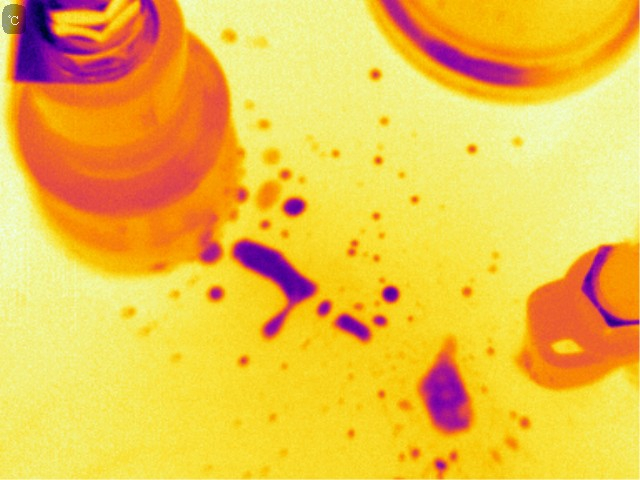Water: (227, 235, 323, 344), (422, 337, 480, 435), (315, 301, 373, 346), (344, 214, 387, 262), (249, 173, 281, 212), (504, 411, 533, 450), (195, 242, 224, 263), (379, 283, 405, 306), (430, 451, 448, 479), (253, 114, 276, 135), (394, 446, 418, 466), (282, 198, 307, 217), (251, 32, 274, 51), (218, 27, 239, 47), (370, 312, 390, 331), (372, 385, 390, 405), (259, 146, 281, 162), (397, 394, 414, 414), (238, 94, 257, 111), (508, 137, 527, 154), (233, 352, 252, 368), (204, 285, 224, 300), (276, 165, 294, 181), (236, 181, 248, 205), (407, 191, 420, 210), (461, 286, 478, 300), (296, 173, 312, 186), (465, 144, 479, 158), (345, 426, 358, 440), (256, 218, 271, 230), (328, 146, 343, 157), (370, 68, 380, 83), (374, 153, 383, 167)
